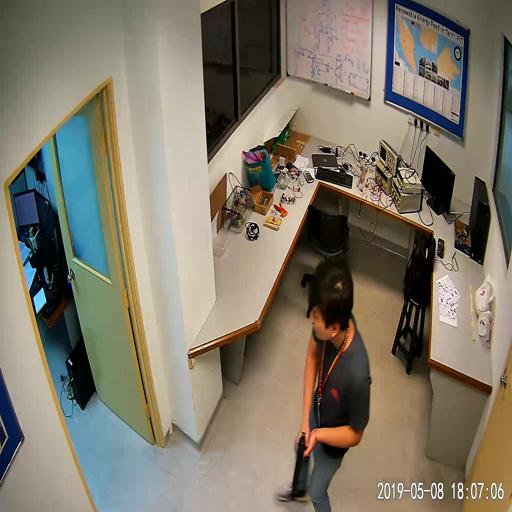pistol: (292, 429, 309, 494)
